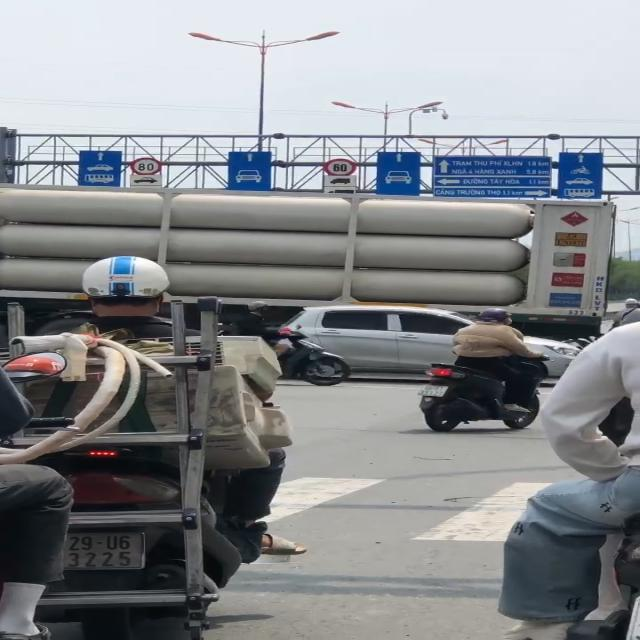Bien bao toc do toi da cho phep: (123, 154, 171, 176), (322, 156, 361, 178)
